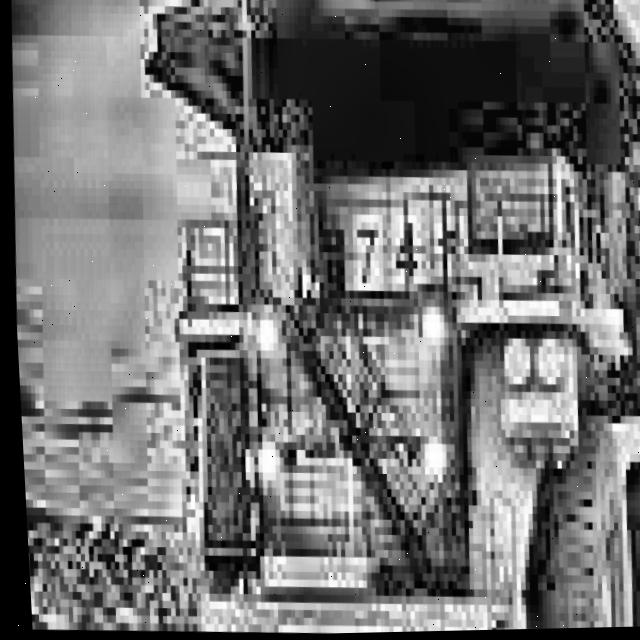dump_truck: (100, 0, 640, 638)
